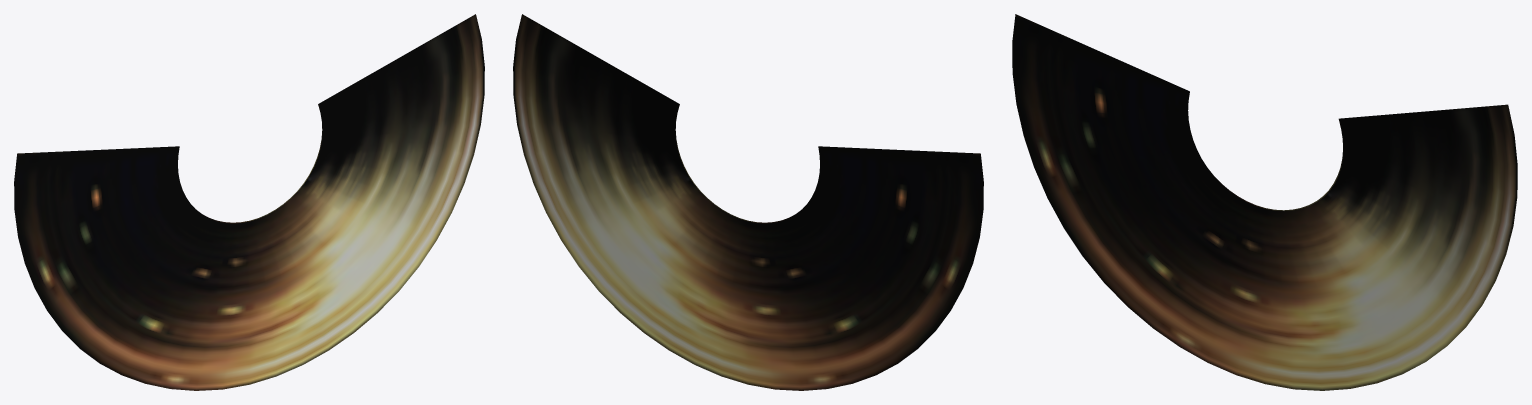
File: fx_yueya_daoguang_meshB.fbx
3 views of the same model, side by side, from view 1: azimuth 30°, elevation 25°; view 2: azimuth 150°, elevation 25°; view 3: azimuth 330°, elevation 25° (orthographic). The views are drawn at different scales.
Visible parts, largest first — view 1: pasted__extrudedSurface3; view 2: pasted__extrudedSurface3; view 3: pasted__extrudedSurface3.
Part boxes in pixels (bbox=[...]): pasted__extrudedSurface3: bbox=[14, 14, 484, 390]; pasted__extrudedSurface3: bbox=[513, 14, 983, 390]; pasted__extrudedSurface3: bbox=[1012, 14, 1517, 390].
Bounding box in the file's own units: 591 × 379 × 6.6e-14.
